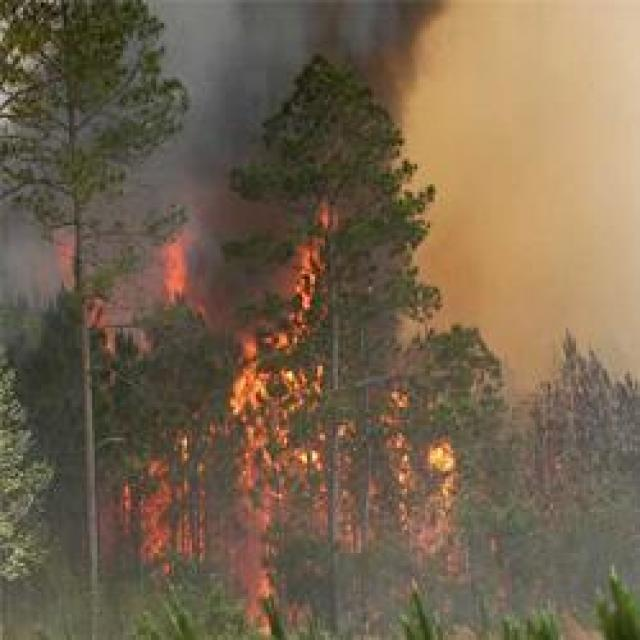fire: (50, 160, 495, 590)
